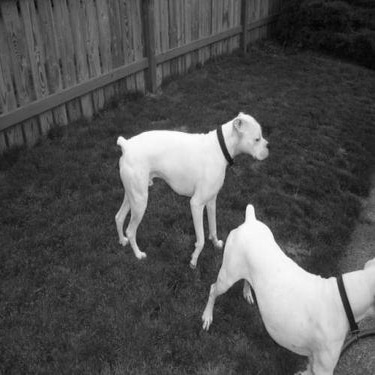dog: (77, 105, 281, 273), (194, 199, 373, 371)
